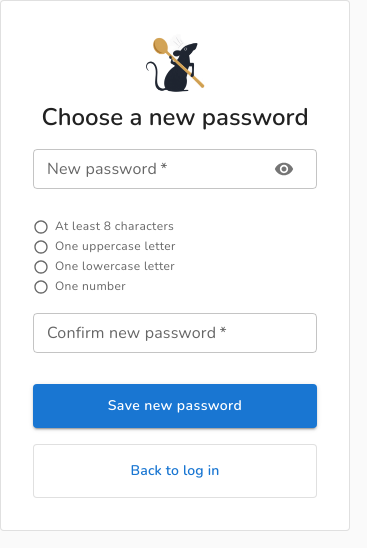
it: ResetPasswordForm Component › password rules › should reject a confirmation that does not match
Step 1. Type "NewPassword1" into the password field labelled "New password *" → x=144, y=169, box left=33, top=149, right=254, bottom=189
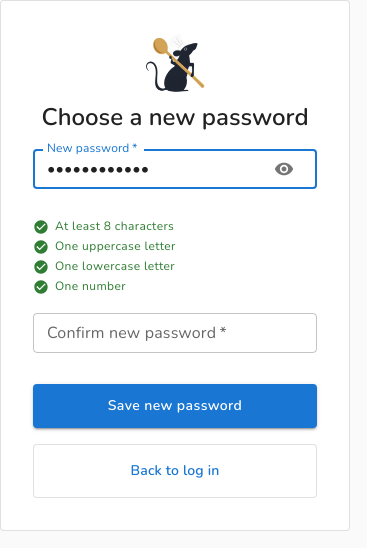
Step 2. Type "NewPassword2" into the password field labelled "Confirm new password *" → x=175, y=332, box left=33, top=312, right=317, bottom=352
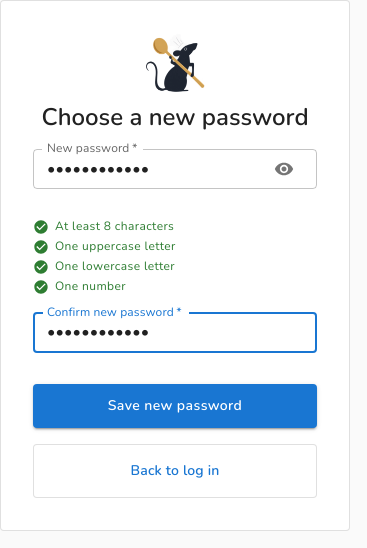
Step 3. Click the button "Save new password" → x=175, y=406, box left=33, top=384, right=317, bottom=428
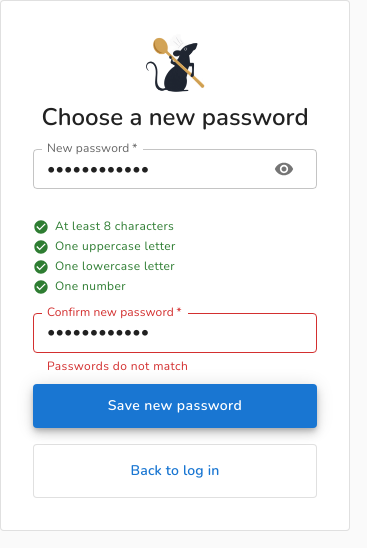
Check: the text "Passwords do not match" is shown, box left=47, top=358, right=188, bottom=374
